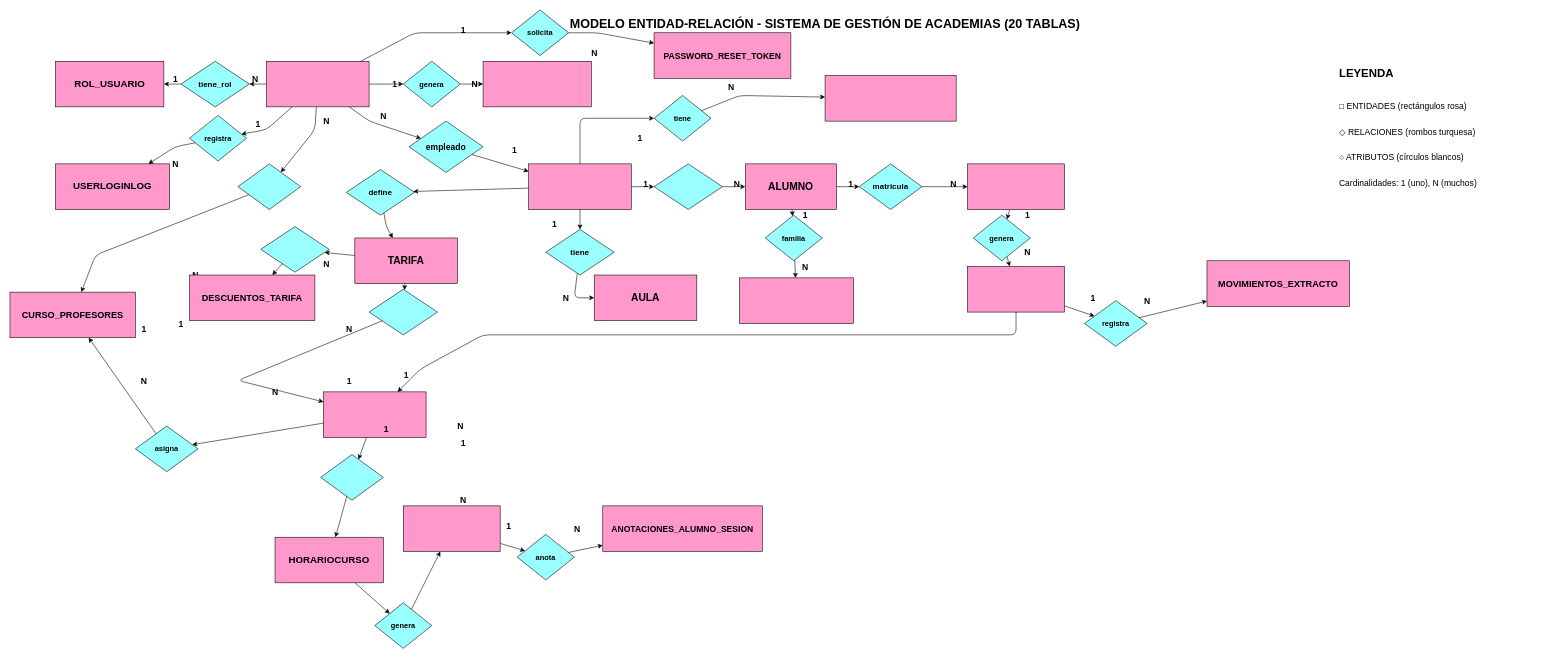
The diagram is 1565 pixels wide and 658 high, and some of its shapes have lost their labels. The shapes that lost their labels are listed below. From the top down, each one's box as (x1, y1, x2, y2) in pixels, then its label:
(266, 61, 369, 107): USUARIO
(483, 61, 591, 107): REFRESHTOKEN
(825, 75, 956, 121): TRABAJADOR_VIRTUAL
(237, 163, 301, 209): imparte
(528, 163, 631, 209): ACADEMIA
(654, 163, 722, 209): pertenece
(967, 163, 1064, 209): INSCRIPCION
(260, 226, 329, 272): descuento
(739, 277, 854, 323): FAMILIAS_ALUMNOS
(967, 266, 1064, 312): EXTRACTOS
(369, 289, 437, 335): ofrece
(323, 391, 426, 437): CURSO
(320, 454, 383, 500): horario
(403, 505, 500, 551): SESION
